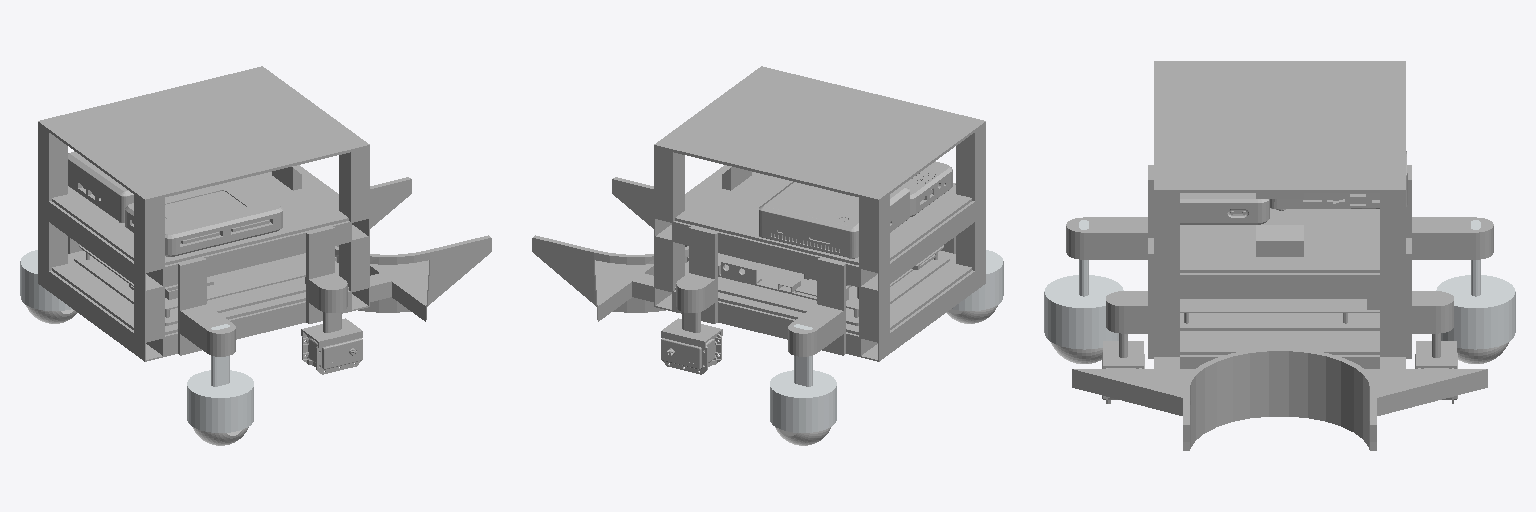
robot.urdf — lide:
<?xml version="1.0" encoding="utf-8"?>
<!-- This URDF was automatically created by SolidWorks to URDF Exporter! Originally created by [author] ([email redacted]) 
     Commit Version: 1.5.1-0-g916b5db  Build Version: 1.5.7152.31018
     For more information, please see http://wiki.ros.org/sw_urdf_exporter -->
<robot
  name="lide">
  <link
    name="base_link">
    <inertial>
      <origin
        xyz="-0.126448241197829 0.106882788549122 0.0713133099713473"
        rpy="0 0 0" />
      <mass
        value="2.9503242631371" />
      <inertia
        ixx="0.00634740247155601"
        ixy="-6.71753439451306E-07"
        ixz="-1.17589213883092E-05"
        iyy="0.00563152025560446"
        iyz="-1.54000011565653E-07"
        izz="0.011263304731959" />
    </inertial>
    <visual>
      <origin
        xyz="0 0 0"
        rpy="0 0 0" />
      <geometry>
        <mesh
          filename="package://lide/meshes/base_link.STL" />
      </geometry>
      <material
        name="">
        <color
          rgba="0.752941176470588 0.752941176470588 0.752941176470588 1" />
      </material>
    </visual>
    <collision>
      <origin
        xyz="0 0 0"
        rpy="0 0 0" />
      <geometry>
        <mesh
          filename="package://lide/meshes/base_link.STL" />
      </geometry>
    </collision>
  </link>
  <link
    name="LFS">
    <inertial>
      <origin
        xyz="0.0455604268709419 0.032906685106006 0.00297622851896683"
        rpy="0 0 0" />
      <mass
        value="0.0727928435161985" />
      <inertia
        ixx="2.20927876796312E-05"
        ixy="-1.64845302056298E-08"
        ixz="-1.56454773175219E-07"
        iyy="1.62632133784213E-05"
        iyz="2.96411876511228E-09"
        izz="1.80843397531752E-05" />
    </inertial>
    <visual>
      <origin
        xyz="0 0 0"
        rpy="0 0 0" />
      <geometry>
        <mesh
          filename="package://lide/meshes/LFS.STL" />
      </geometry>
      <material
        name="">
        <color
          rgba="0.752941176470588 0.752941176470588 0.752941176470588 1" />
      </material>
    </visual>
    <collision>
      <origin
        xyz="0 0 0"
        rpy="0 0 0" />
      <geometry>
        <mesh
          filename="package://lide/meshes/LFS.STL" />
      </geometry>
    </collision>
  </link>
  <joint
    name="LFS"
    type="prismatic">
    <origin
      xyz="-0.059044 0.1894 -0.0391"
      rpy="1.5708 0 1.5708" />
    <parent
      link="base_link" />
    <child
      link="LFS" />
    <axis
      xyz="0 1 0" />
    <limit
      lower="0"
      upper="0"
      effort="0"
      velocity="0" />
  </joint>
  <link
    name="LFW">
    <inertial>
      <origin
        xyz="0.015 0 0"
        rpy="0 0 0" />
      <mass
        value="0.289786121963991" />
      <inertia
        ixx="0.000439831942427159"
        ixy="-4.7261907244405E-23"
        ixz="-6.92511400711663E-21"
        iyy="0.000241649930360879"
        iyz="-8.470329472543E-22"
        izz="0.000241649930360879" />
    </inertial>
    <visual>
      <origin
        xyz="0 0 0"
        rpy="0 0 0" />
      <geometry>
        <mesh
          filename="package://lide/meshes/LFW.STL" />
      </geometry>
      <material
        name="">
        <color
          rgba="1 1 1 1" />
      </material>
    </visual>
    <collision>
      <origin
        xyz="0 0 0"
        rpy="0 0 0" />
      <geometry>
        <mesh
          filename="package://lide/meshes/LFW.STL" />
      </geometry>
    </collision>
  </link>
  <joint
    name="LFW"
    type="continuous">
    <origin
      xyz="0.0633463599631527 0.0177992135623731 0.0150436140506676"
      rpy="-1.62639053095063 0 0" />
    <parent
      link="LFS" />
    <child
      link="LFW" />
    <axis
      xyz="1 0 0" />
    <limit
      effort="3.1"
      velocity="7" />
  </joint>
  <link
    name="RFS">
    <inertial>
      <origin
        xyz="-0.0191828308457407 0.0328750631219809 0.0520056318885905"
        rpy="0 0 0" />
      <mass
        value="0.0727928435161986" />
      <inertia
        ixx="2.20927876796313E-05"
        ixy="-1.64845302056308E-08"
        ixz="1.56454773175212E-07"
        iyy="1.62632133784213E-05"
        iyz="-2.96411876510557E-09"
        izz="1.80843397531752E-05" />
    </inertial>
    <visual>
      <origin
        xyz="0 0 0"
        rpy="0 0 0" />
      <geometry>
        <mesh
          filename="package://lide/meshes/RFS.STL" />
      </geometry>
      <material
        name="">
        <color
          rgba="0.752941176470588 0.752941176470588 0.752941176470588 1" />
      </material>
    </visual>
    <collision>
      <origin
        xyz="0 0 0"
        rpy="0 0 0" />
      <geometry>
        <mesh
          filename="package://lide/meshes/RFS.STL" />
      </geometry>
    </collision>
  </link>
  <joint
    name="RFS"
    type="prismatic">
    <origin
      xyz="-0.10807 -0.0057812 -0.0391"
      rpy="1.5708 0 1.5708" />
    <parent
      link="base_link" />
    <child
      link="RFS" />
    <axis
      xyz="0 1 0" />
    <limit
      lower="0"
      upper="0"
      effort="0"
      velocity="0" />
  </joint>
  <link
    name="RFW">
    <inertial>
      <origin
        xyz="-0.015 -3.46944695195361E-18 0"
        rpy="0 0 0" />
      <mass
        value="0.289786121963991" />
      <inertia
        ixx="0.000439831942427158"
        ixy="-1.86173509586288E-37"
        ixz="1.74018828123569E-39"
        iyy="0.000241649930360878"
        iyz="-1.98345100634366E-37"
        izz="0.000241649930360879" />
    </inertial>
    <visual>
      <origin
        xyz="0 0 0"
        rpy="0 0 0" />
      <geometry>
        <mesh
          filename="package://lide/meshes/RFW.STL" />
      </geometry>
      <material
        name="">
        <color
          rgba="1 1 1 1" />
      </material>
    </visual>
    <collision>
      <origin
        xyz="0 0 0"
        rpy="0 0 0" />
      <geometry>
        <mesh
          filename="package://lide/meshes/RFW.STL" />
      </geometry>
    </collision>
  </link>
  <joint
    name="RFW"
    type="continuous">
    <origin
      xyz="-0.0369687639379516 0.0178007864376269 0.0640730174202912"
      rpy="0 0 0" />
    <parent
      link="RFS" />
    <child
      link="RFW" />
    <axis
      xyz="1 0 0" />
    <limit
      effort="3.1"
      velocity="7" />
  </joint>
  <link
    name="LBS">
    <inertial>
      <origin
        xyz="0 -0.0132027886233653 -2.77555756156289E-17"
        rpy="0 0 0" />
      <mass
        value="0.0814336669941267" />
      <inertia
        ixx="7.50476643218914E-05"
        ixy="-5.44699547843156E-21"
        ixz="-2.95681478508762E-20"
        iyy="5.07073399734387E-05"
        iyz="2.45382635977572E-20"
        izz="7.44755694233047E-05" />
    </inertial>
    <visual>
      <origin
        xyz="0 0 0"
        rpy="0 0 0" />
      <geometry>
        <mesh
          filename="package://lide/meshes/LBS.STL" />
      </geometry>
      <material
        name="">
        <color
          rgba="0.898039215686275 0.917647058823529 0.929411764705882 1" />
      </material>
    </visual>
    <collision>
      <origin
        xyz="0 0 0"
        rpy="0 0 0" />
      <geometry>
        <mesh
          filename="package://lide/meshes/LBS.STL" />
      </geometry>
    </collision>
  </link>
  <joint
    name="LBS"
    type="prismatic">
    <origin
      xyz="-0.202 0.26775 0"
      rpy="1.5708 0 1.5708" />
    <parent
      link="base_link" />
    <child
      link="LBS" />
    <axis
      xyz="0 1 0" />
    <limit
      lower="0"
      upper="0"
      effort="0"
      velocity="0" />
  </joint>
  <link
    name="LBW">
    <inertial>
      <origin
        xyz="0 0 0"
        rpy="0 0 0" />
      <mass
        value="0.112992280670899" />
      <inertia
        ixx="4.04707394622432E-05"
        ixy="8.64215334842816E-22"
        ixz="-4.84915997629267E-23"
        iyy="4.14928291117356E-05"
        iyz="-3.30561654054224E-20"
        izz="4.04707394622432E-05" />
    </inertial>
    <visual>
      <origin
        xyz="0 0 0"
        rpy="0 0 0" />
      <geometry>
        <mesh
          filename="package://lide/meshes/LBW.STL" />
      </geometry>
      <material
        name="">
        <color
          rgba="1 1 1 1" />
      </material>
    </visual>
    <collision>
      <origin
        xyz="0 0 0"
        rpy="0 0 0" />
      <geometry>
        <mesh
          filename="package://lide/meshes/LBW.STL" />
      </geometry>
    </collision>
  </link>
  <joint
    name="LBW"
    type="fixed">
    <origin
      xyz="0 -0.0462999999999999 0"
      rpy="3.14159265358978 0 1.5707963267949" />
    <parent
      link="LBS" />
    <child
      link="LBW" />
    <axis
      xyz="0 0 0" />
  </joint>
  <link
    name="RBS">
    <inertial>
      <origin
        xyz="1.38777878078145E-17 -0.0132027886233654 0"
        rpy="0 0 0" />
      <mass
        value="0.0814336669941267" />
      <inertia
        ixx="7.50476643218915E-05"
        ixy="-1.34984902411146E-21"
        ixz="-1.43939761172891E-20"
        iyy="5.07073399734387E-05"
        iyz="2.46342230796506E-20"
        izz="7.44755694233048E-05" />
    </inertial>
    <visual>
      <origin
        xyz="0 0 0"
        rpy="0 0 0" />
      <geometry>
        <mesh
          filename="package://lide/meshes/RBS.STL" />
      </geometry>
      <material
        name="">
        <color
          rgba="0.898039215686275 0.917647058823529 0.929411764705882 1" />
      </material>
    </visual>
    <collision>
      <origin
        xyz="0 0 0"
        rpy="0 0 0" />
      <geometry>
        <mesh
          filename="package://lide/meshes/RBS.STL" />
      </geometry>
    </collision>
  </link>
  <joint
    name="RBS"
    type="prismatic">
    <origin
      xyz="-0.202 -0.05775 0"
      rpy="1.5708 0 1.5708" />
    <parent
      link="base_link" />
    <child
      link="RBS" />
    <axis
      xyz="0 1 0" />
    <limit
      lower="0"
      upper="0"
      effort="0"
      velocity="0" />
  </joint>
  <link
    name="RBW">
    <inertial>
      <origin
        xyz="1.38777878078145E-17 0 0"
        rpy="0 0 0" />
      <mass
        value="0.112992280670899" />
      <inertia
        ixx="4.04707394622432E-05"
        ixy="1.36914067680822E-22"
        ixz="-5.98481716794416E-22"
        iyy="4.14928291117356E-05"
        iyz="-3.26172719010152E-20"
        izz="4.04707394622432E-05" />
    </inertial>
    <visual>
      <origin
        xyz="0 0 0"
        rpy="0 0 0" />
      <geometry>
        <mesh
          filename="package://lide/meshes/RBW.STL" />
      </geometry>
      <material
        name="">
        <color
          rgba="1 1 1 1" />
      </material>
    </visual>
    <collision>
      <origin
        xyz="0 0 0"
        rpy="0 0 0" />
      <geometry>
        <mesh
          filename="package://lide/meshes/RBW.STL" />
      </geometry>
    </collision>
  </link>
  <joint
    name="RBW"
    type="fixed">
    <origin
      xyz="0 -0.0463 0"
      rpy="0 0 -1.5707963267949" />
    <parent
      link="RBS" />
    <child
      link="RBW" />
    <axis
      xyz="0 0 0" />
  </joint>
  <link
    name="fcam">
    <inertial>
      <origin
        xyz="-0.0115544746517358 -2.64429642850283E-06 0.00129029302682174"
        rpy="0 0 0" />
      <mass
        value="0.0436119957238952" />
      <inertia
        ixx="2.35707061906175E-05"
        ixy="-1.01842273865815E-09"
        ixz="2.17585832536658E-08"
        iyy="4.29479050056035E-06"
        iyz="-8.85018118759859E-10"
        izz="2.21058153511886E-05" />
    </inertial>
    <visual>
      <origin
        xyz="0 0 0"
        rpy="0 0 0" />
      <geometry>
        <mesh
          filename="package://lide/meshes/fcam.STL" />
      </geometry>
      <material
        name="">
        <color
          rgba="0.792156862745098 0.819607843137255 0.933333333333333 1" />
      </material>
    </visual>
    <collision>
      <origin
        xyz="0 0 0"
        rpy="0 0 0" />
      <geometry>
        <mesh
          filename="package://lide/meshes/fcam.STL" />
      </geometry>
    </collision>
  </link>
  <joint
    name="fcam"
    type="fixed">
    <origin
      xyz="-0.0038823 0.105 0.15182"
      rpy="0 0.2618 0" />
    <parent
      link="base_link" />
    <child
      link="fcam" />
    <axis
      xyz="0 0 0" />
  </joint>
  <link
    name="bcam">
    <inertial>
      <origin
        xyz="-0.02010346452991 -2.64354903285746E-06 -0.00725869505663598"
        rpy="0 0 0" />
      <mass
        value="0.0436119949785286" />
      <inertia
        ixx="2.35707056099601E-05"
        ixy="-1.01834758005654E-09"
        ixz="2.17579332532715E-08"
        iyy="4.29479078276665E-06"
        iyz="-8.85484503961722E-10"
        izz="2.21058144654638E-05" />
    </inertial>
    <visual>
      <origin
        xyz="0 0 0"
        rpy="0 0 0" />
      <geometry>
        <mesh
          filename="package://lide/meshes/bcam.STL" />
      </geometry>
      <material
        name="">
        <color
          rgba="0.792156862745098 0.819607843137255 0.933333333333333 1" />
      </material>
    </visual>
    <collision>
      <origin
        xyz="0 0 0"
        rpy="0 0 0" />
      <geometry>
        <mesh
          filename="package://lide/meshes/bcam.STL" />
      </geometry>
    </collision>
  </link>
  <joint
    name="bcam"
    type="fixed">
    <origin
      xyz="0 0.105 0.11323"
      rpy="0 0.7854 0" />
    <parent
      link="base_link" />
    <child
      link="bcam" />
    <axis
      xyz="0 0 0" />
  </joint>
  <link
    name="Lidar">
    <inertial>
      <origin
        xyz="0.0135233595886409 0.000461955982206386 -0.028764885495051"
        rpy="0 0 0" />
      <mass
        value="0.0730845717569496" />
      <inertia
        ixx="1.95808757419765E-05"
        ixy="-1.03933585736234E-07"
        ixz="-4.28391168396099E-07"
        iyy="2.41250079666672E-05"
        iyz="9.42710206434158E-09"
        izz="4.14184516368183E-05" />
    </inertial>
    <visual>
      <origin
        xyz="0 0 0"
        rpy="0 0 0" />
      <geometry>
        <mesh
          filename="package://lide/meshes/Lidar.STL" />
      </geometry>
      <material
        name="">
        <color
          rgba="0.792156862745098 0.819607843137255 0.933333333333333 1" />
      </material>
    </visual>
    <collision>
      <origin
        xyz="0 0 0"
        rpy="0 0 0" />
      <geometry>
        <mesh
          filename="package://lide/meshes/Lidar.STL" />
      </geometry>
    </collision>
  </link>
  <joint
    name="Lidar"
    type="fixed">
    <origin
      xyz="-0.19458 0.10401 0.2285"
      rpy="0 0 0" />
    <parent
      link="base_link" />
    <child
      link="Lidar" />
    <axis
      xyz="0 0 0" />
  </joint>
  <link
    name="imu_link">
    <inertial>
      <origin
        xyz="0.00385022026093959 6.23984008056161E-05 -0.00103377575234337"
        rpy="0 0 0" />
      <mass
        value="0.00189180567975737" />
      <inertia
        ixx="7.79431263454135E-08"
        ixy="1.39214190556514E-10"
        ixz="1.54511633252899E-11"
        iyy="4.85473464623125E-08"
        iyz="-6.30099051334897E-11"
        izz="1.25233585370532E-07" />
    </inertial>
    <visual>
      <origin
        xyz="0 0 0"
        rpy="0 0 0" />
      <geometry>
        <mesh
          filename="package://lide/meshes/imu_link.STL" />
      </geometry>
      <material
        name="">
        <color
          rgba="0.898039215686275 0.917647058823529 0.929411764705882 1" />
      </material>
    </visual>
    <collision>
      <origin
        xyz="0 0 0"
        rpy="0 0 0" />
      <geometry>
        <mesh
          filename="package://lide/meshes/imu_link.STL" />
      </geometry>
    </collision>
  </link>
  <joint
    name="imu_link"
    type="fixed">
    <origin
      xyz="-0.0439999999999988 0.105 0.177"
      rpy="0 0 0" />
    <parent
      link="base_link" />
    <child
      link="imu_link" />
    <axis
      xyz="0 0 0" />
  </joint>
</robot>

--- Facts derived from the render (not from the file) ---
3 views of the same robot in one strip: view 1: azimuth 30°, elevation 25°; view 2: azimuth 150°, elevation 25°; view 3: azimuth 270°, elevation 25° (orthographic).
Model lide with 13 links and 12 joints (2 continuous, 4 prismatic, 6 fixed), rooted at base_link, posed all joints at 0.
Links seen in each view (by area): view 1: base_link, RBS, RFS, LBS, RBW; view 2: base_link, LBS, LFS, RBS, LBW; view 3: base_link, LBS, RBS, RFS, LFS, LBW, RBW.
Boxes of the visible links, <box> form: base_link: <box>38,66,491,361</box>; RBS: <box>187,324,253,432</box>; RFS: <box>301,281,362,374</box>; LBS: <box>20,250,71,310</box>; RBW: <box>193,427,248,445</box>; base_link: <box>532,66,985,361</box>; LBS: <box>770,324,836,432</box>; LFS: <box>661,281,722,374</box>; RBS: <box>952,250,1003,310</box>; LBW: <box>775,427,830,445</box>; base_link: <box>1066,61,1493,450</box>; LBS: <box>1436,220,1515,349</box>; RBS: <box>1044,220,1123,349</box>; RFS: <box>1102,294,1144,403</box>; LFS: <box>1415,294,1457,403</box>; LBW: <box>1457,342,1508,363</box>; RBW: <box>1051,342,1102,363</box>.
Size in the robot's own frame: 0.405 by 0.3915 by 0.2512 metres.
Meshes: 13 distinct files referenced, 7 mesh visuals loaded (7 binary STL); not drawn: 6 (reference not matched to a file when rendering).